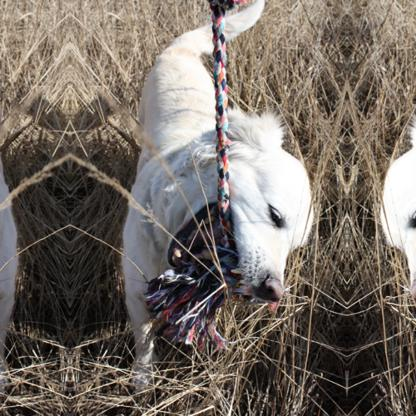Dog: (120, 0, 312, 398)
